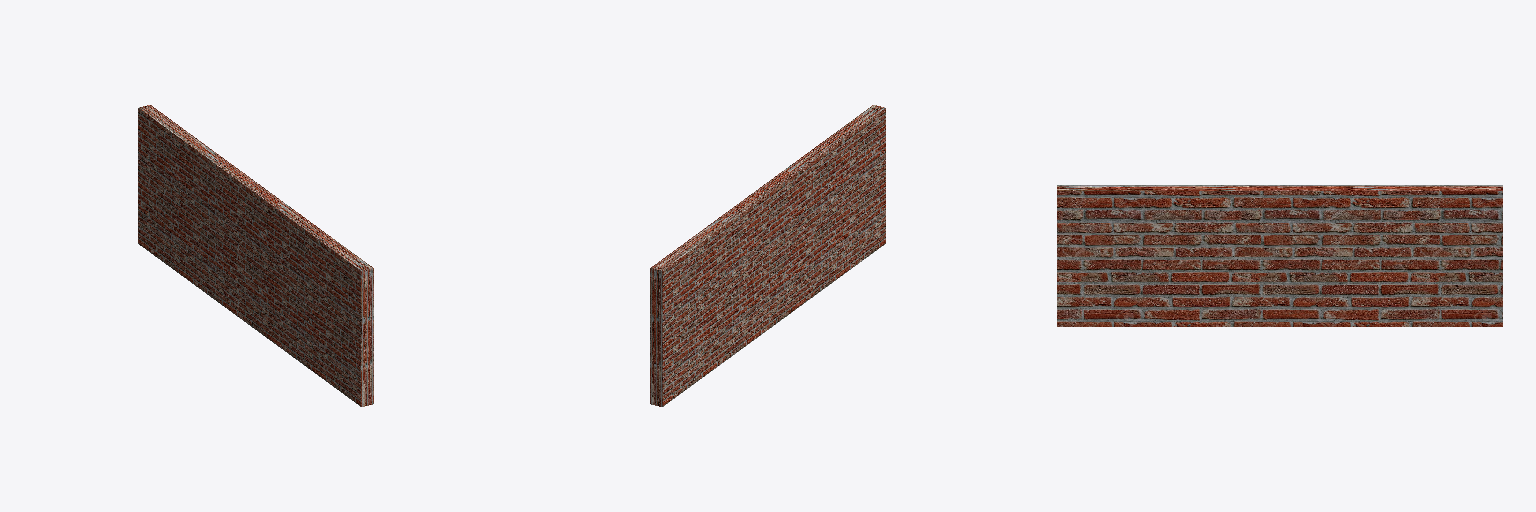
The picture shows the model from 3 angles: view 1: azimuth 30°, elevation 25°; view 2: azimuth 150°, elevation 25°; view 3: azimuth 270°, elevation 25°; orthographic projection.
Visible parts, largest first — view 1: Cube.019_Cube.021; view 2: Cube.019_Cube.021; view 3: Cube.019_Cube.021.
Boxes of the visible parts, x1,y1,x2,y2 form: Cube.019_Cube.021: [138, 105, 373, 406]; Cube.019_Cube.021: [650, 105, 885, 406]; Cube.019_Cube.021: [1057, 185, 1502, 326].
Size of the model in its own units: 0.8 by 8.62 by 25.56.
Materials: 1 (1 with a texture image).